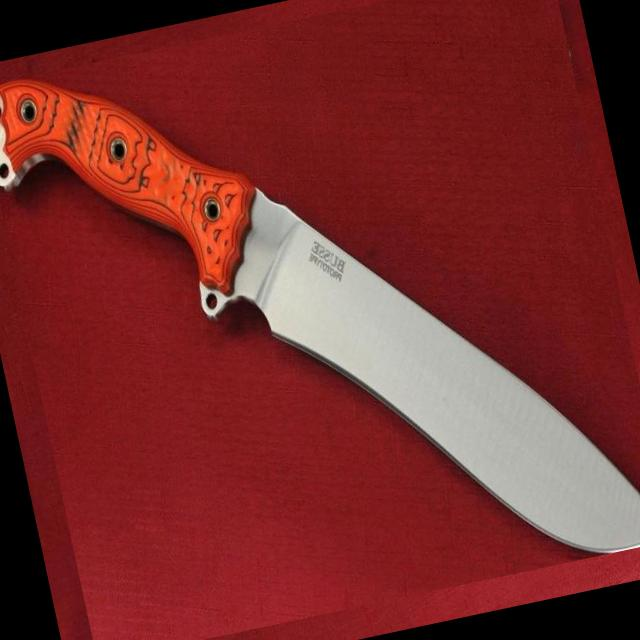Knife: (0, 81, 640, 552)
